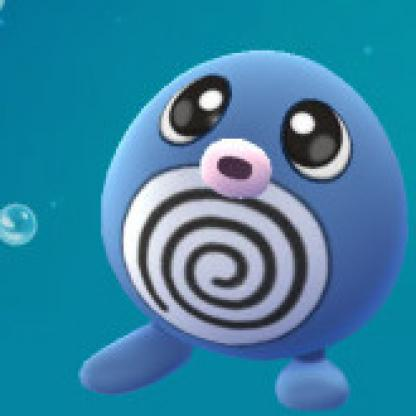Poliwag: (49, 54, 414, 414)
